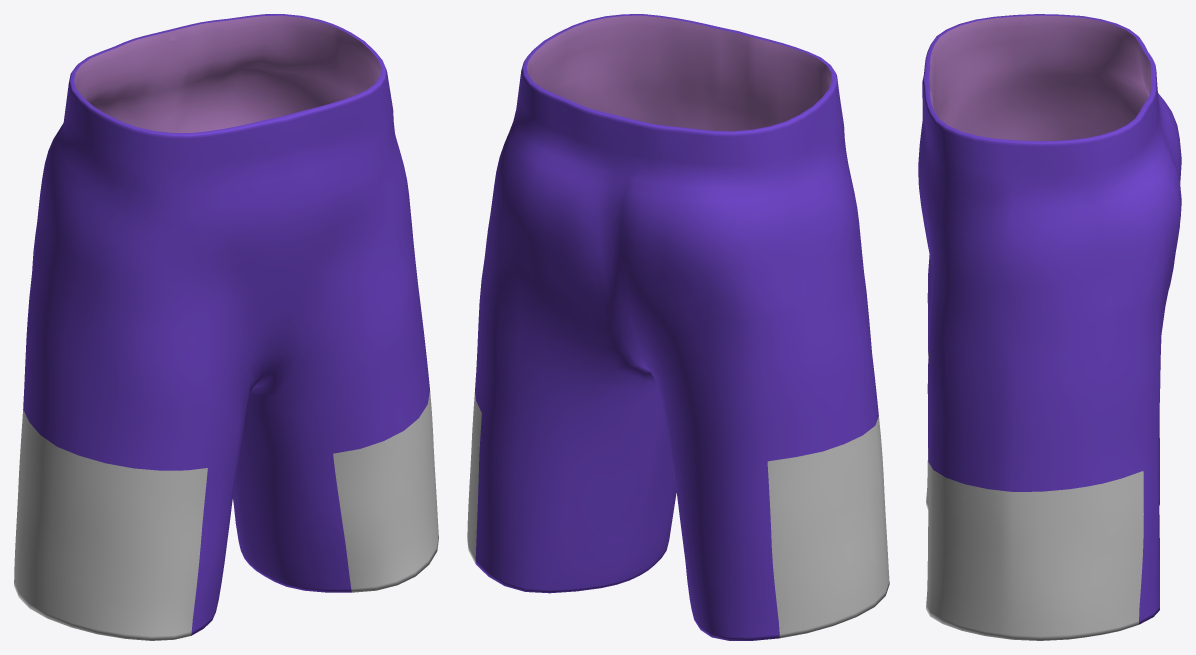
3 renders of one model, left to right at view 1: azimuth 30°, elevation 25°; view 2: azimuth 150°, elevation 25°; view 3: azimuth 270°, elevation 25°, orthographic. The views are drawn at different scales.
Visible parts, largest first — view 1: main, reverse; view 2: main, reverse; view 3: main, reverse.
Boxes of the visible parts, x1=… form: main: x1=14, y1=14, x2=438, y2=640; reverse: x1=74, y1=15, x2=381, y2=132; main: x1=467, y1=14, x2=889, y2=640; reverse: x1=527, y1=15, x2=832, y2=131; main: x1=918, y1=14, x2=1181, y2=640; reverse: x1=929, y1=15, x2=1150, y2=141.
Bounding box in the file's own units: 0.7531 × 0.9226 × 0.4515.
